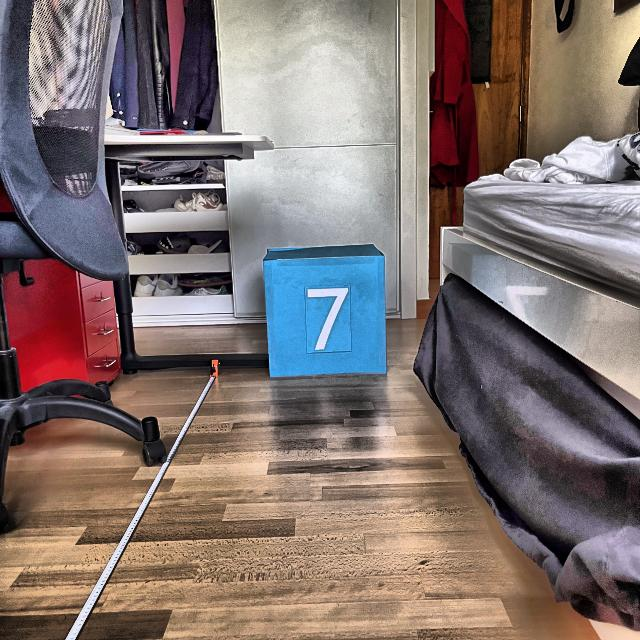blue box: (262, 242, 390, 378)
seven: (304, 285, 352, 352)
